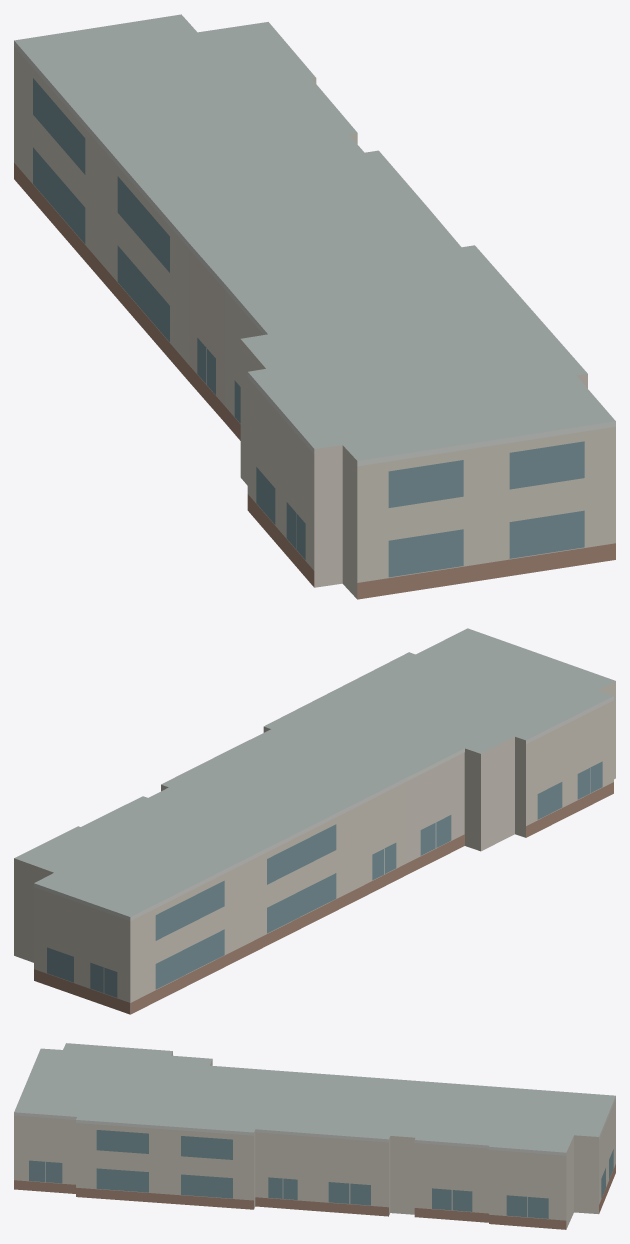
The model's file is survey-upis-32970887.glb.
The picture shows the model from 3 angles, top to bottom: view 1: azimuth 30°, elevation 25°; view 2: azimuth 150°, elevation 25°; view 3: azimuth 270°, elevation 25°; orthographic projection. The views are drawn at different scales.
Visible parts, largest first — view 1: survey-upis-32970887.tmp; view 2: survey-upis-32970887.tmp; view 3: survey-upis-32970887.tmp.
Boxes of the visible parts, bbox=[...] form: survey-upis-32970887.tmp: bbox=[14, 14, 615, 599]; survey-upis-32970887.tmp: bbox=[14, 628, 615, 1014]; survey-upis-32970887.tmp: bbox=[14, 1043, 615, 1229].
Bounding box in the file's own units: 18.58 × 6.1 × 43.12.
